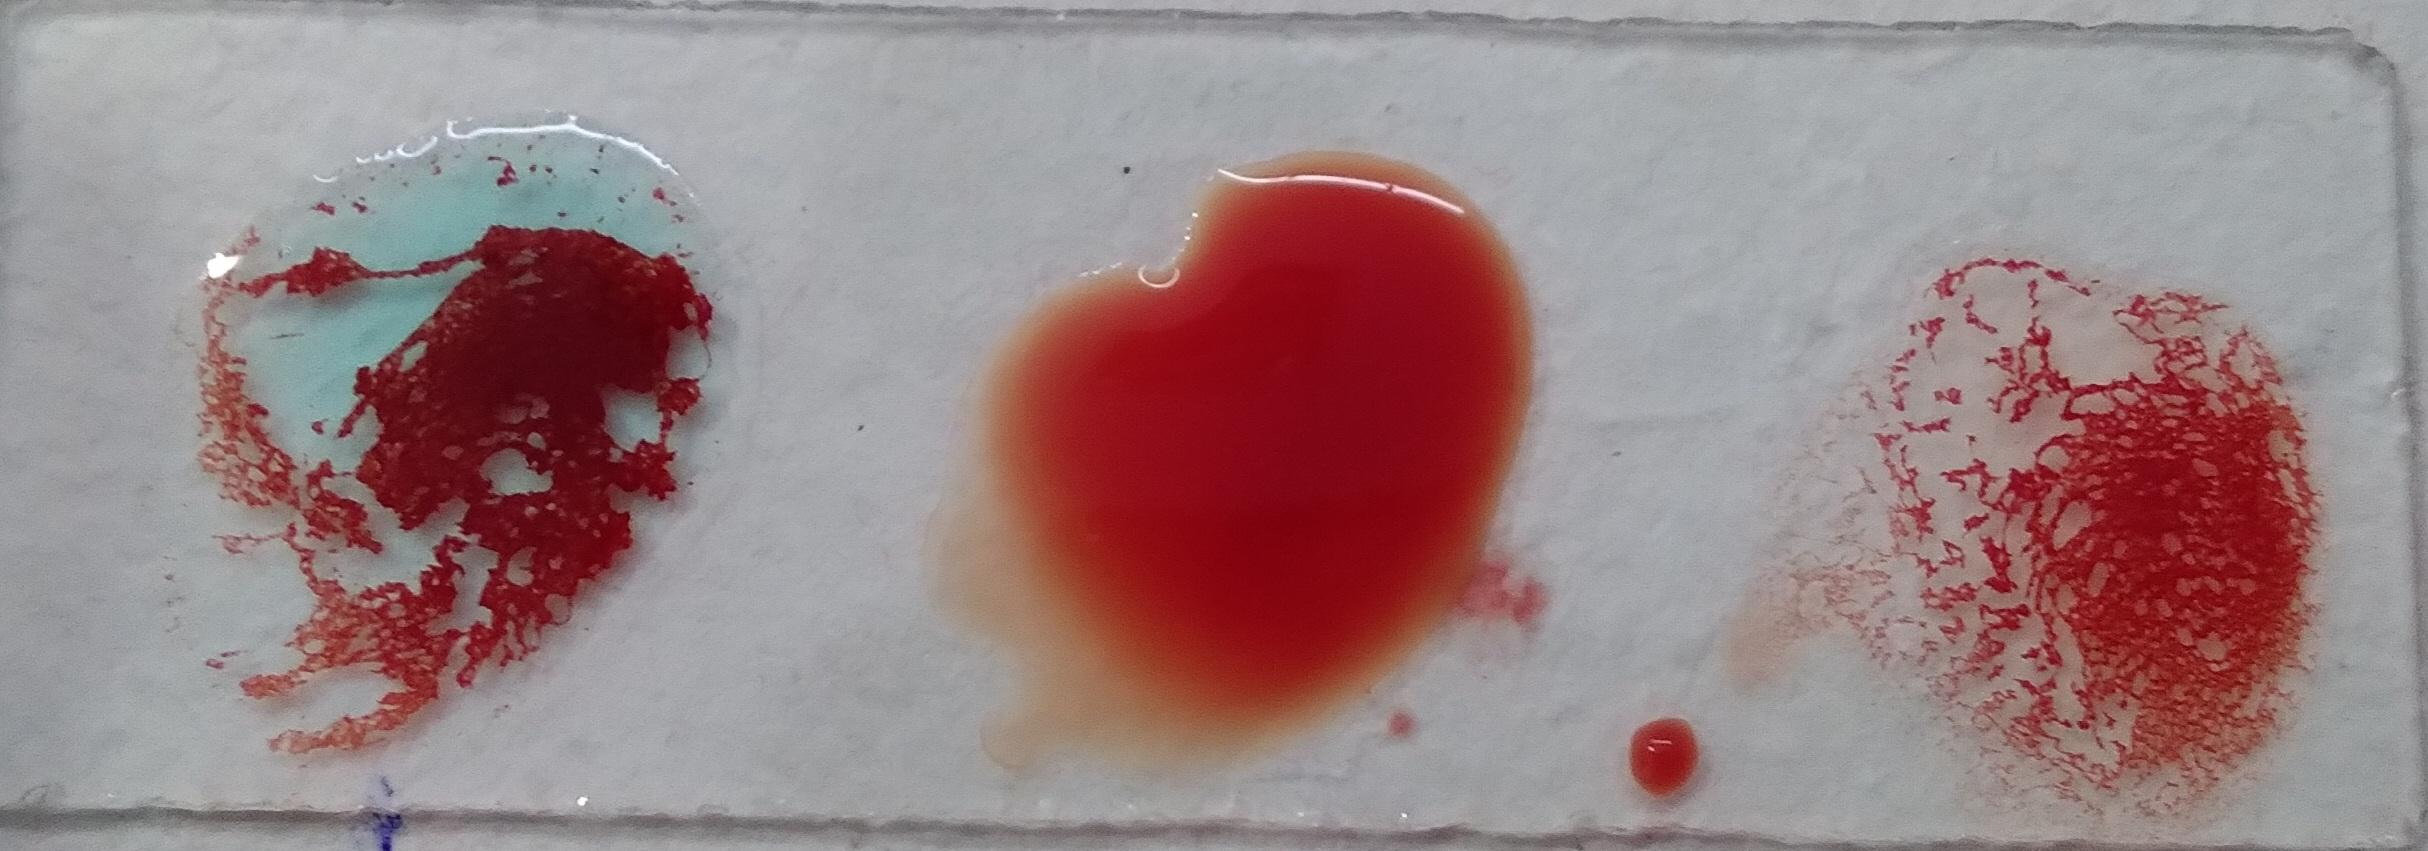A: (1692, 116, 2269, 746)
D: (76, 48, 641, 616)
